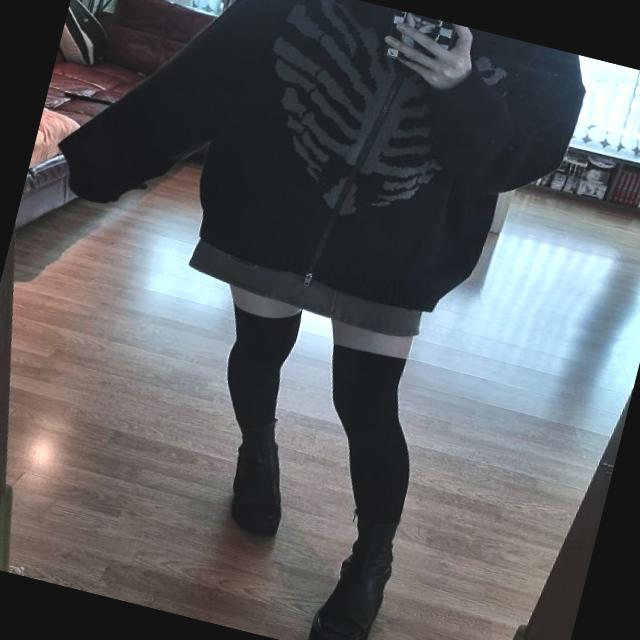cardigan: (40, 0, 595, 338)
skirt: (178, 228, 450, 350)
